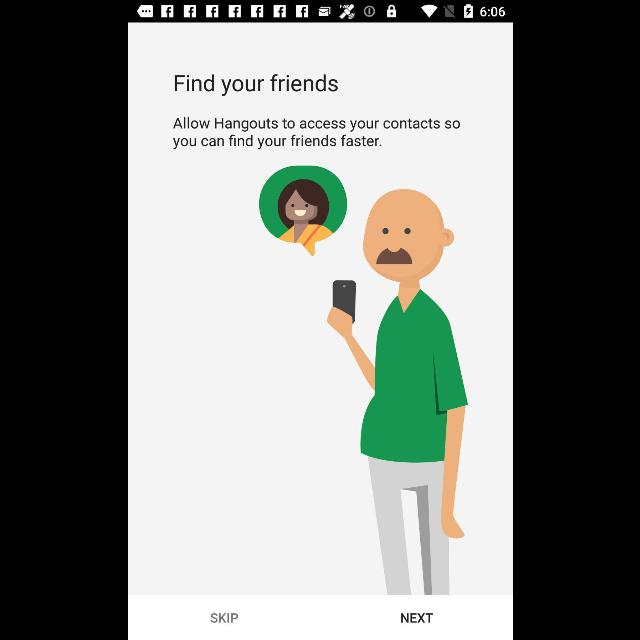image: (258, 166, 468, 594)
text: (172, 118, 460, 150), (174, 74, 338, 96), (209, 612, 237, 624), (400, 613, 432, 623)
uppertaskbar: (128, 1, 512, 23)
